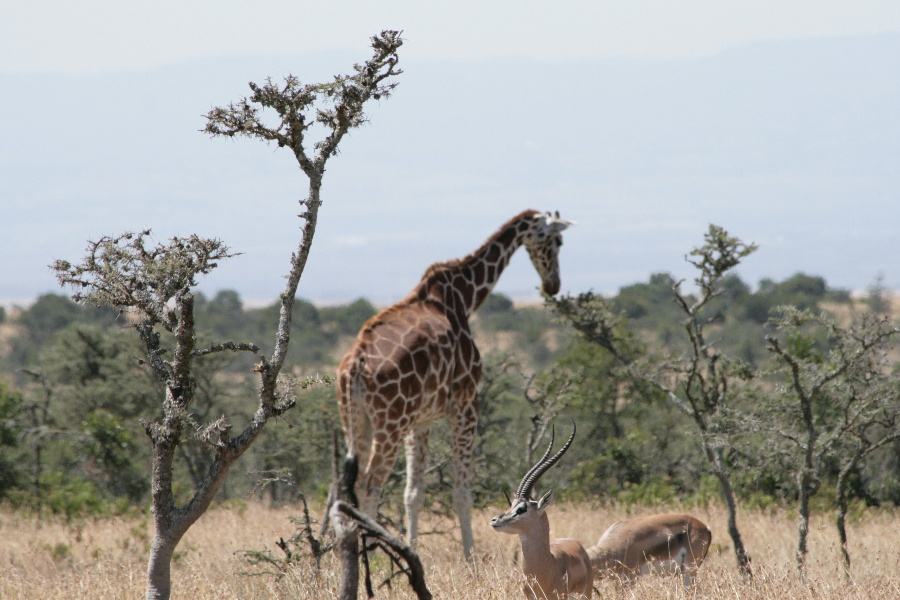giraffe: (317, 196, 581, 562)
